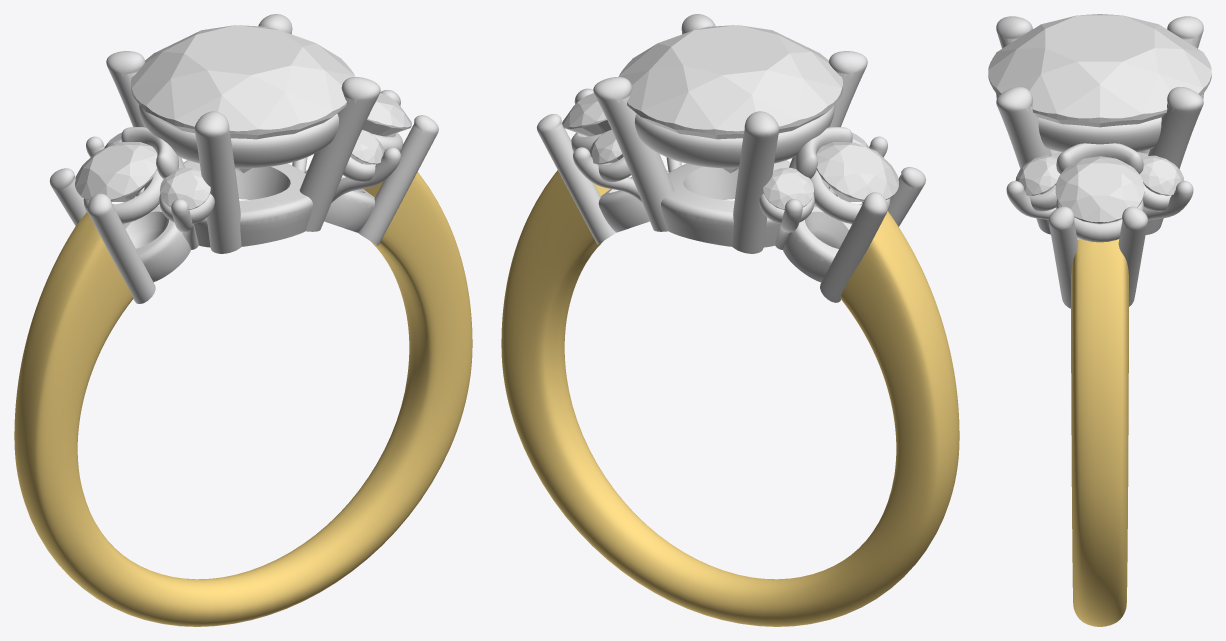
The model's file is Michael Lapidus.glb.
3 renders of one model, left to right at view 1: azimuth 30°, elevation 25°; view 2: azimuth 150°, elevation 25°; view 3: azimuth 270°, elevation 25°, orthographic.
Parts seen in each view (by area): view 1: Michael Lapidus.007, Michael Lapidus.008, Michael Lapidus.031, Michael Lapidus.030, Michael Lapidus.029, Michael Lapidus.024, Michael Lapidus.023; view 2: Michael Lapidus.007, Michael Lapidus.008, Michael Lapidus.031, Michael Lapidus.030, Michael Lapidus.027, Michael Lapidus.024, Michael Lapidus.021; view 3: Michael Lapidus.007, Michael Lapidus.031, Michael Lapidus.008, Michael Lapidus.024, Michael Lapidus.021, Michael Lapidus.023.
Boxes of the visible parts, x1=… form: Michael Lapidus.007: x1=14, y1=172, x2=472, y2=626; Michael Lapidus.008: x1=49, y1=14, x2=438, y2=303; Michael Lapidus.031: x1=131, y1=25, x2=355, y2=173; Michael Lapidus.030: x1=75, y1=142, x2=157, y2=202; Michael Lapidus.029: x1=160, y1=167, x2=210, y2=209; Michael Lapidus.024: x1=362, y1=93, x2=411, y2=136; Michael Lapidus.023: x1=350, y1=129, x2=384, y2=164; Michael Lapidus.007: x1=501, y1=170, x2=959, y2=626; Michael Lapidus.008: x1=536, y1=14, x2=925, y2=302; Michael Lapidus.031: x1=618, y1=25, x2=842, y2=173; Michael Lapidus.030: x1=816, y1=142, x2=898, y2=202; Michael Lapidus.027: x1=763, y1=167, x2=813, y2=209; Michael Lapidus.024: x1=562, y1=93, x2=611, y2=136; Michael Lapidus.021: x1=589, y1=129, x2=623, y2=164; Michael Lapidus.007: x1=1071, y1=239, x2=1128, y2=626; Michael Lapidus.031: x1=988, y1=14, x2=1211, y2=127; Michael Lapidus.008: x1=996, y1=16, x2=1203, y2=308; Michael Lapidus.024: x1=1055, y1=156, x2=1144, y2=223; Michael Lapidus.021: x1=1139, y1=155, x2=1184, y2=195; Michael Lapidus.023: x1=1015, y1=155, x2=1060, y2=195.
Bounding box in the file's own units: 20.08 × 24.57 × 8.83.
